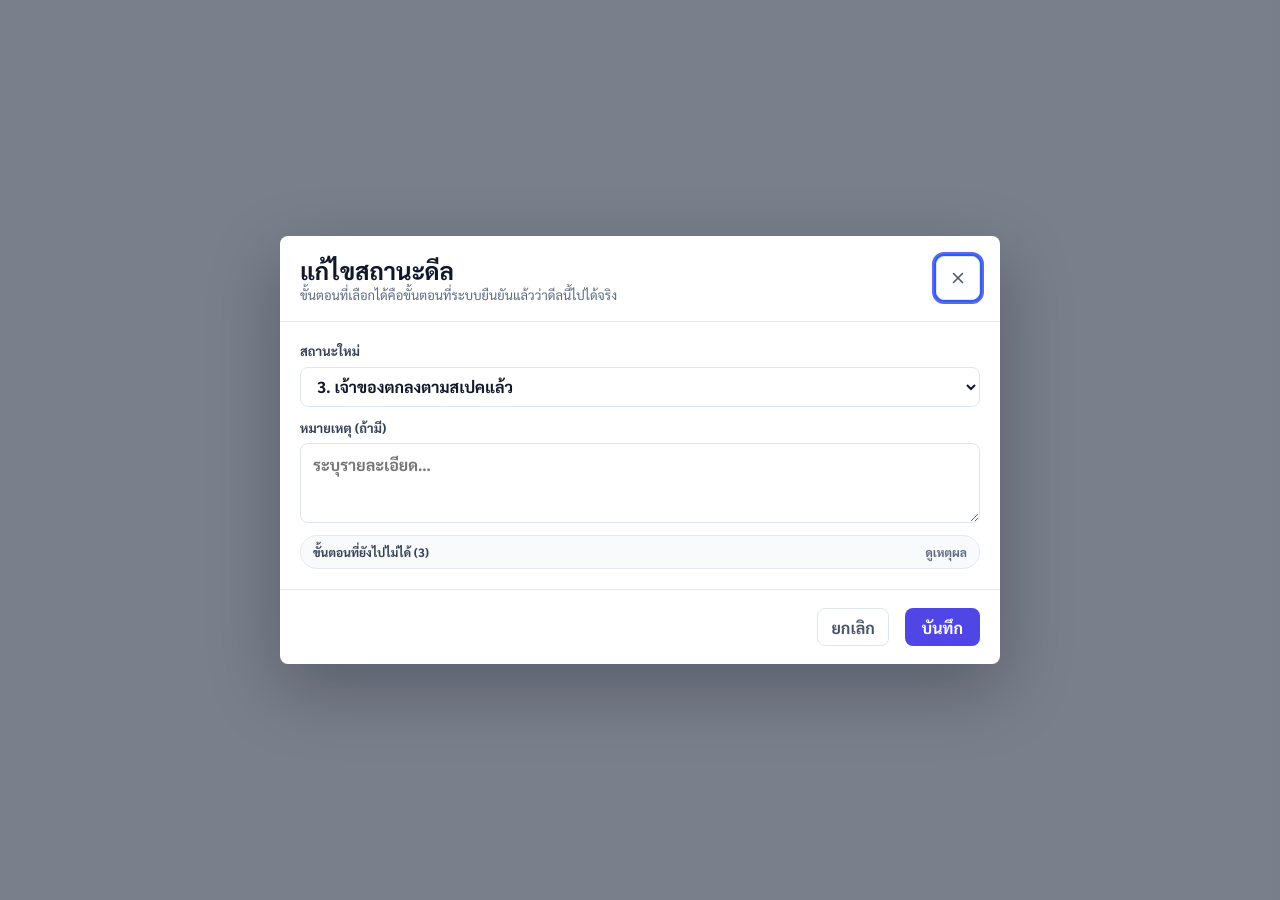
Test case: UpdateStageModal blocked rows — แก้ช่องทางดีล › offers the remedy on the off-route blocked row, keeping the server's reason beside it
Click the button with test id "update-stage-blocked-toggle": (366, 552) [301, 536, 979, 568]
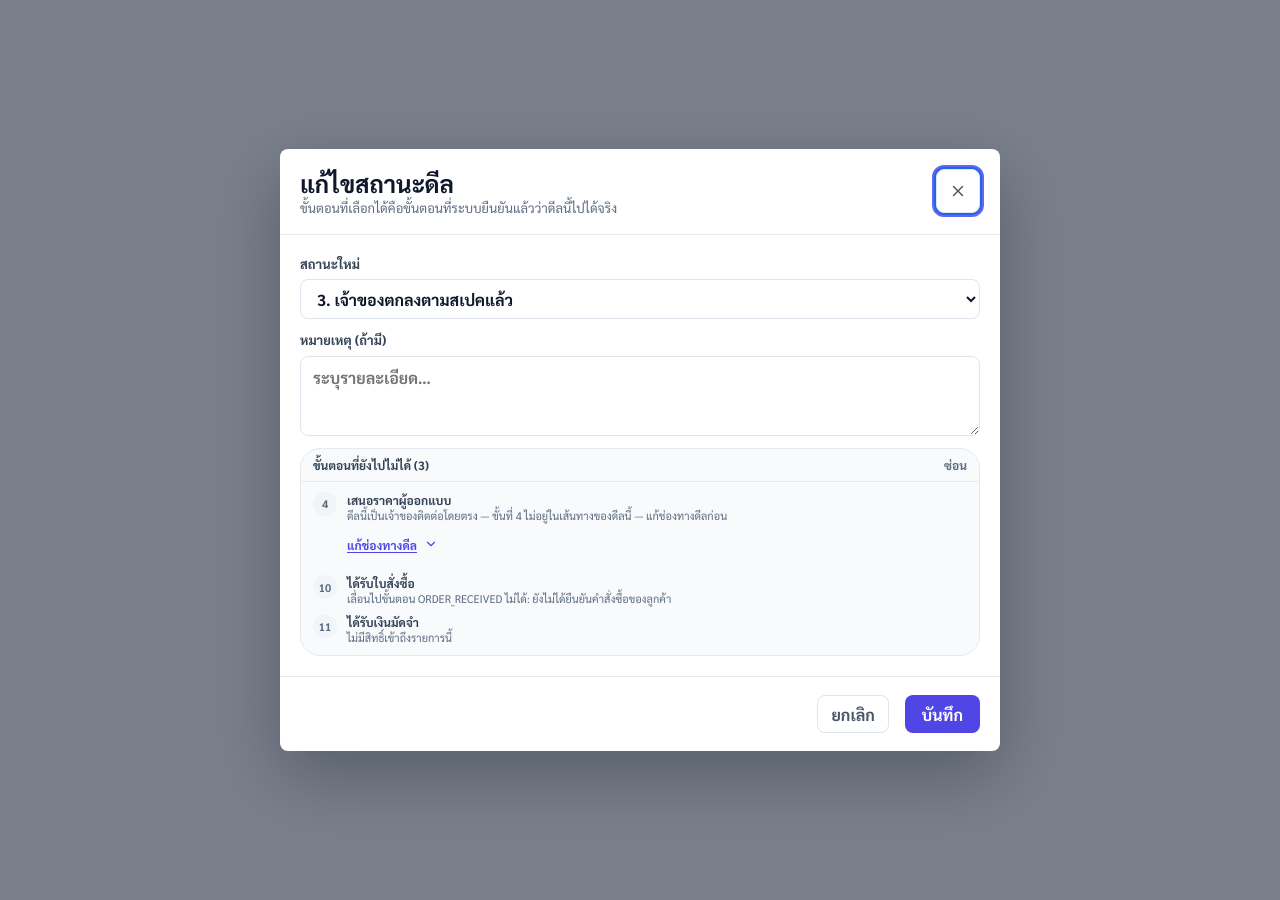
Now the text "ดีลนี้เป็นเจ้าของติดต่อโดยตรง — ขั้นที่ 4 ไม่อยู่ในเส้นทางของดีลนี้ — แก้ช่องทางดีลก่อน" is shown, box [347, 508, 727, 523]
Now the number of buttons "แก้ช่องทางดีล" is 1, box [347, 523, 438, 567]
